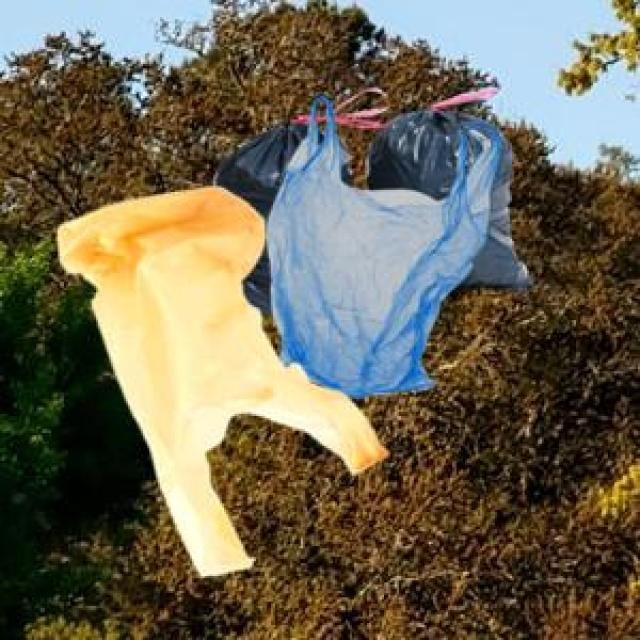miscellaneous trash: (209, 91, 527, 314)
